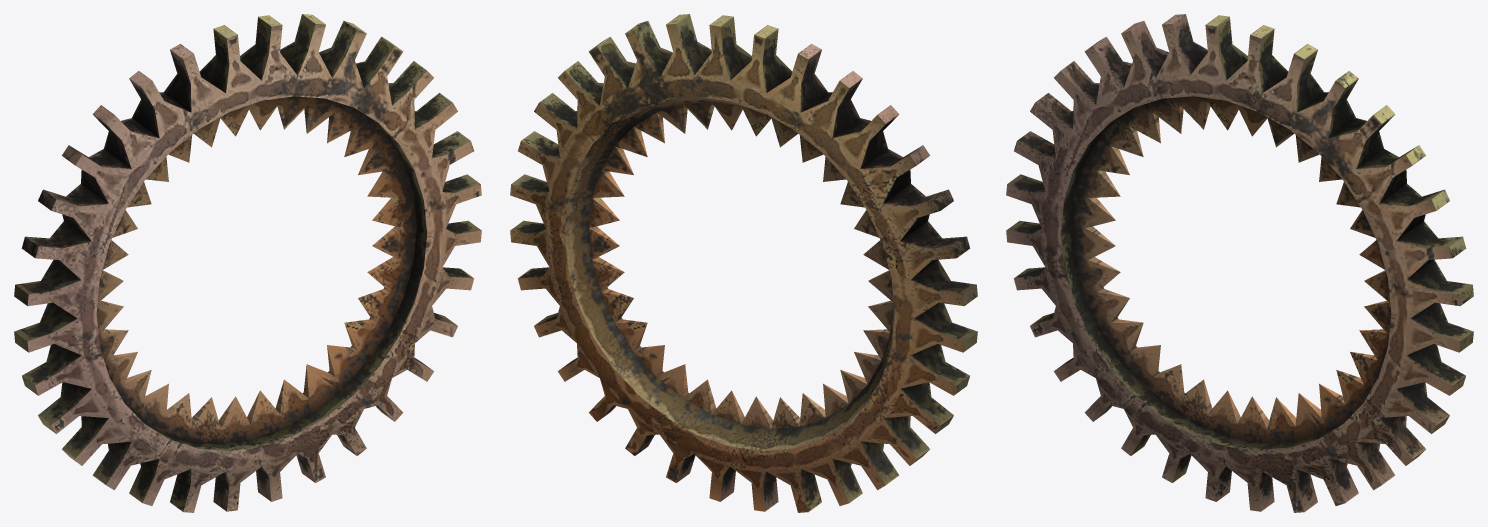
The model's file is EngranajeGrande.obj.
3 views of the same model, side by side, from view 1: azimuth 30°, elevation 25°; view 2: azimuth 150°, elevation 25°; view 3: azimuth 330°, elevation 25° (orthographic).
Parts seen in each view (by area): view 1: grande_Material_#3; view 2: grande_Material_#3; view 3: grande_Material_#3.
Boxes of the visible parts, x1,y1,x2,y2 form: grande_Material_#3: [14, 14, 481, 512]; grande_Material_#3: [510, 14, 977, 512]; grande_Material_#3: [1006, 14, 1473, 512].
Bounding box in the file's own units: 14.8 × 14.8 × 1.58.
